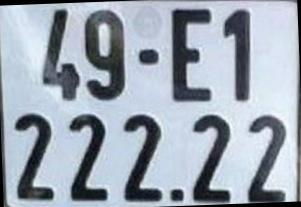-: (142, 51, 158, 64)
.: (171, 189, 182, 202)
1: (224, 10, 251, 101)
2: (16, 115, 54, 199), (71, 115, 108, 201), (125, 114, 161, 201), (195, 114, 230, 202), (251, 117, 285, 202)
4: (42, 10, 80, 100)
9: (86, 12, 124, 100)
E: (172, 11, 211, 100)
